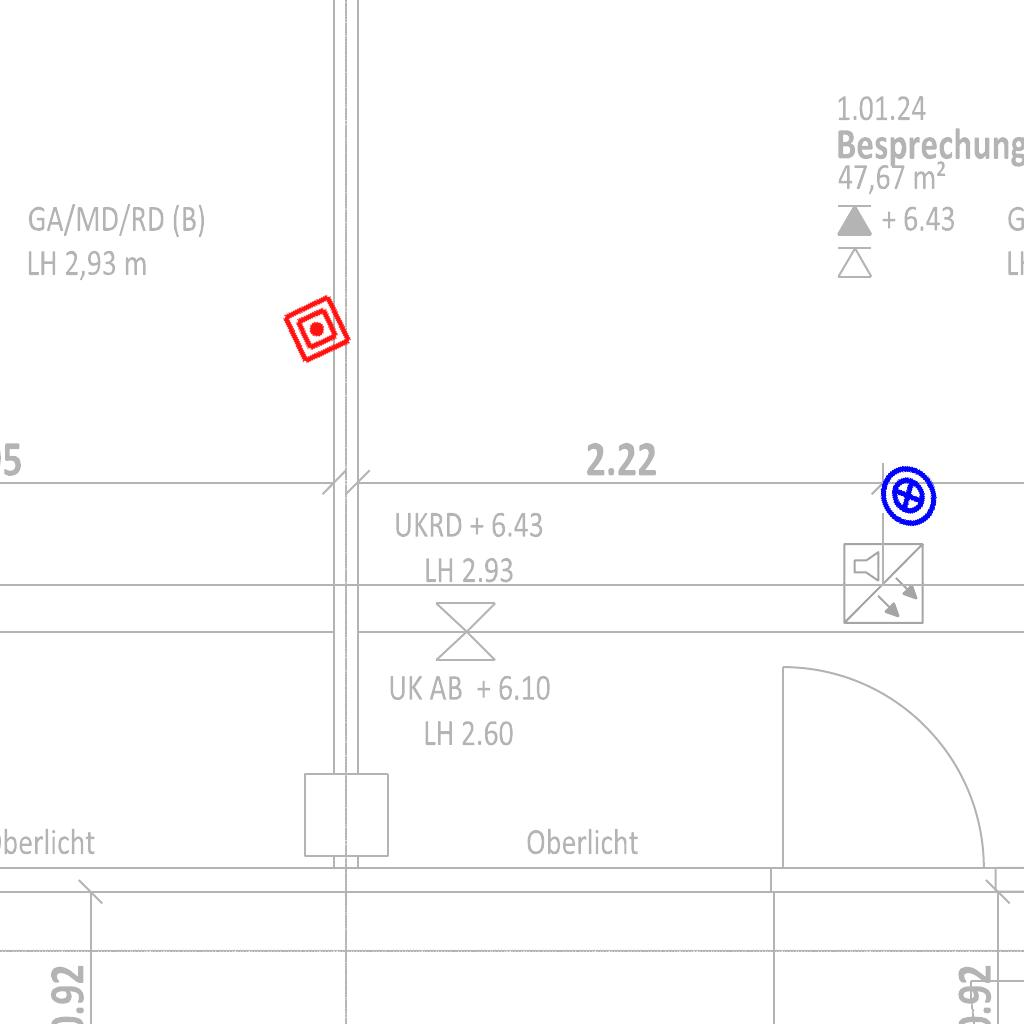NAM-Nichtautomatischer_Melder: (279, 291, 355, 367)
Taster_beleuchtet: (863, 451, 953, 541)
